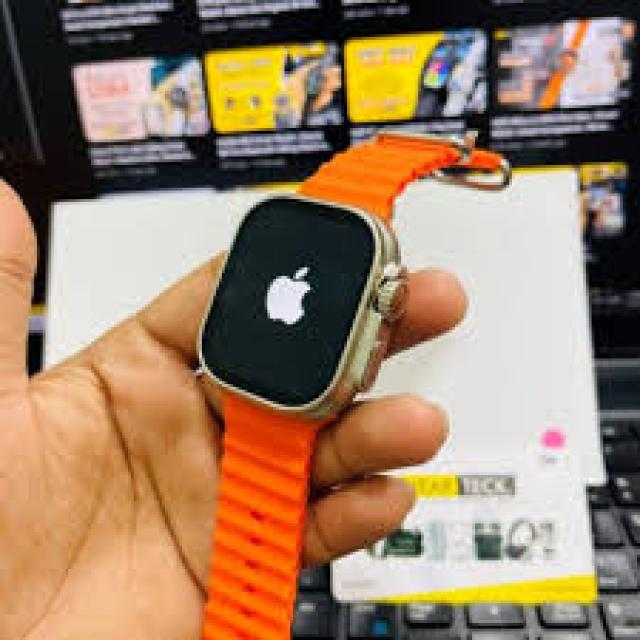objects: (194, 192, 410, 422)
